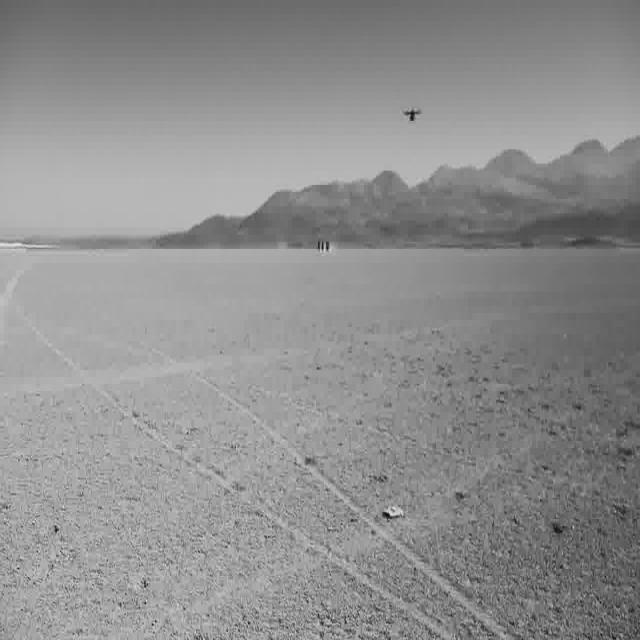drone: (399, 102, 425, 132)
